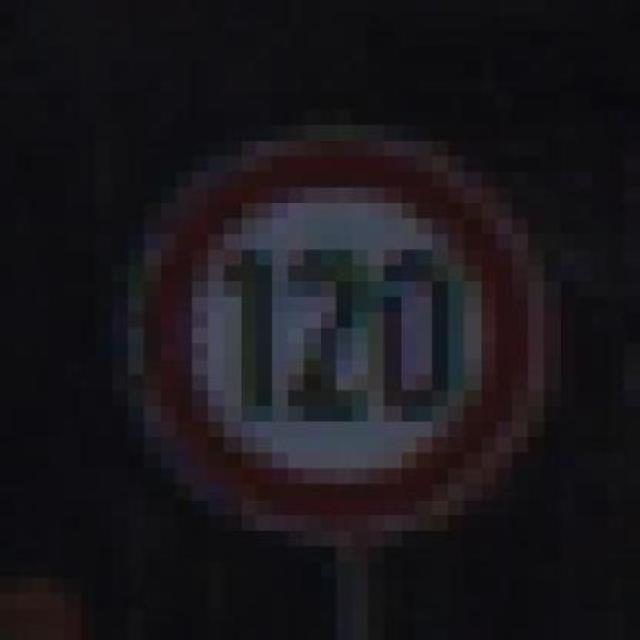forb_speed_over_120: (141, 144, 536, 524)
